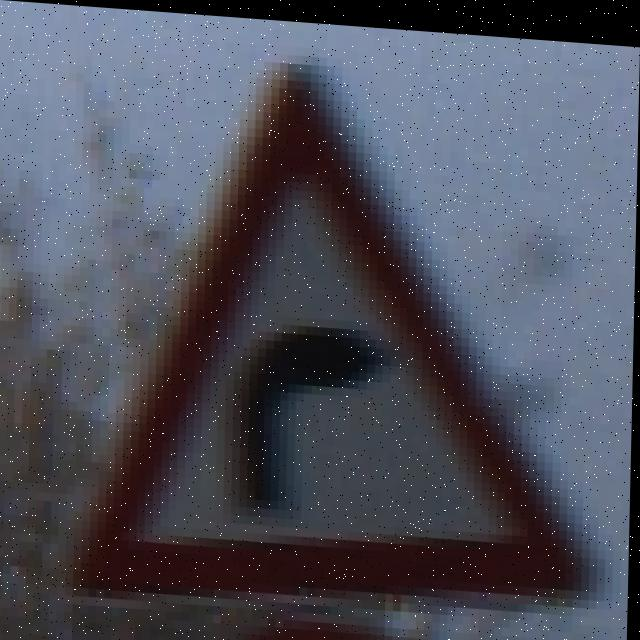right_turn: (80, 144, 580, 640)
